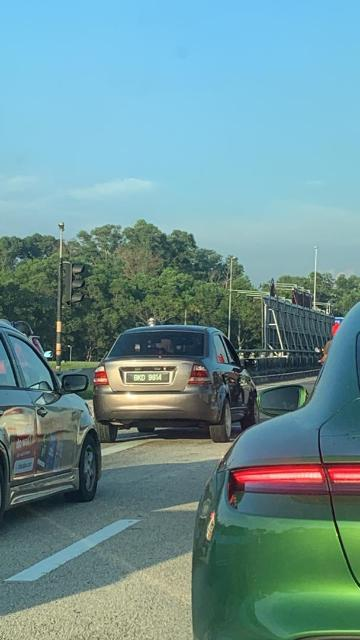License_Plate: (123, 368, 174, 385)
car: (94, 320, 264, 441)
